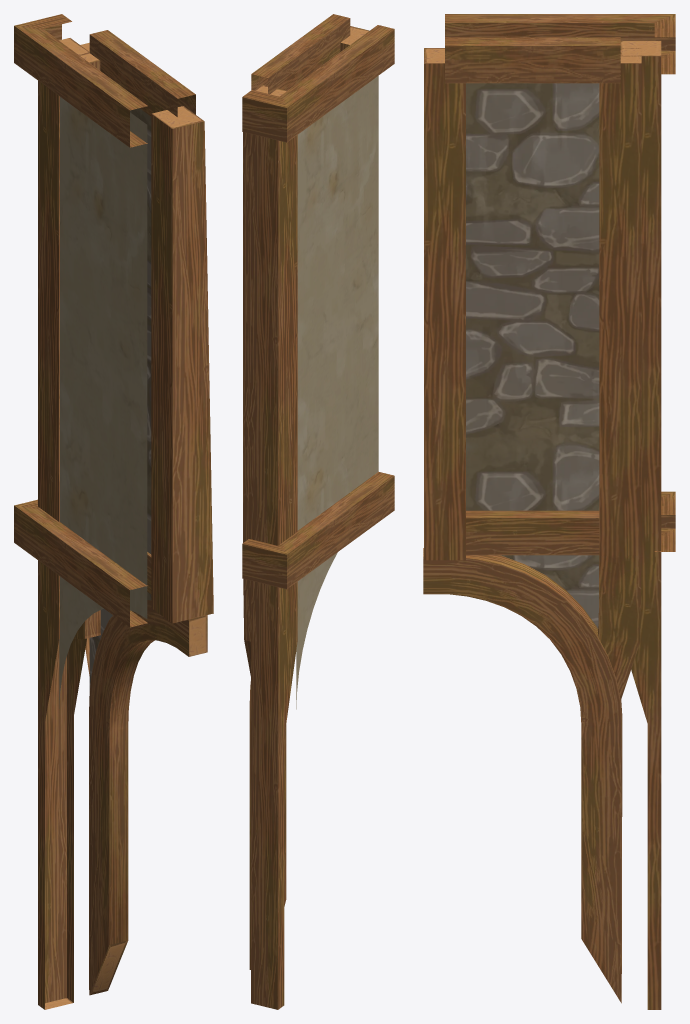
File: Overhang_Side_UnevenBrick_Short_R.glb
3 views of the same model, side by side, from view 1: azimuth 30°, elevation 25°; view 2: azimuth 150°, elevation 25°; view 3: azimuth 270°, elevation 25° (orthographic). The views are drawn at different scales.
Visible parts, largest first — view 1: Overhang_Side_UnevenBrick_Short_R; view 2: Overhang_Side_UnevenBrick_Short_R; view 3: Overhang_Side_UnevenBrick_Short_R.
Boxes of the visible parts, bbox=[...] form: Overhang_Side_UnevenBrick_Short_R: bbox=[14, 14, 213, 1009]; Overhang_Side_UnevenBrick_Short_R: bbox=[242, 14, 394, 1009]; Overhang_Side_UnevenBrick_Short_R: bbox=[423, 14, 675, 1009].
Bounding box in the file's own units: 0.4794 × 6.12 × 1.44.
3 materials, 3 textured.
